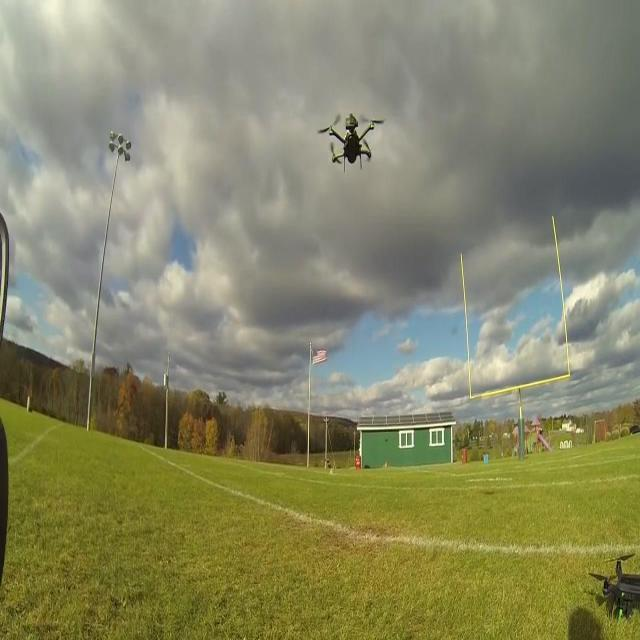UAV: (317, 113, 384, 173), (588, 554, 640, 618)
